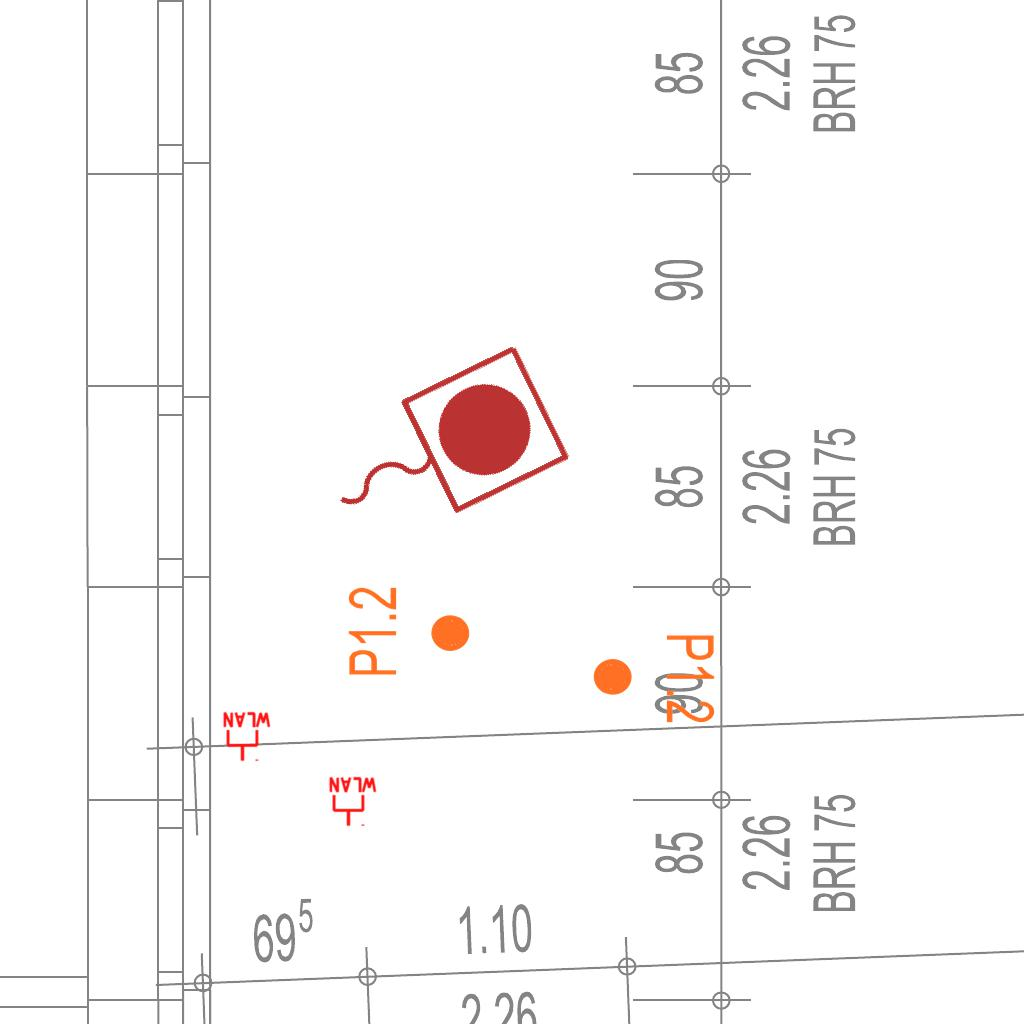Downlight_LED_Einbauleuchten_Flur: (345, 585, 473, 678), (590, 632, 718, 725)
WLAN: (327, 776, 379, 828), (221, 711, 273, 763)
Zugtaster: (297, 331, 581, 569)
